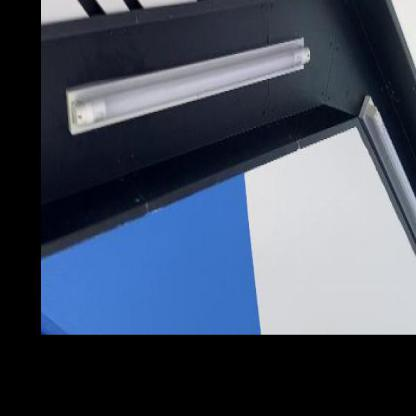light_off: (53, 9, 316, 141), (346, 76, 415, 360)
